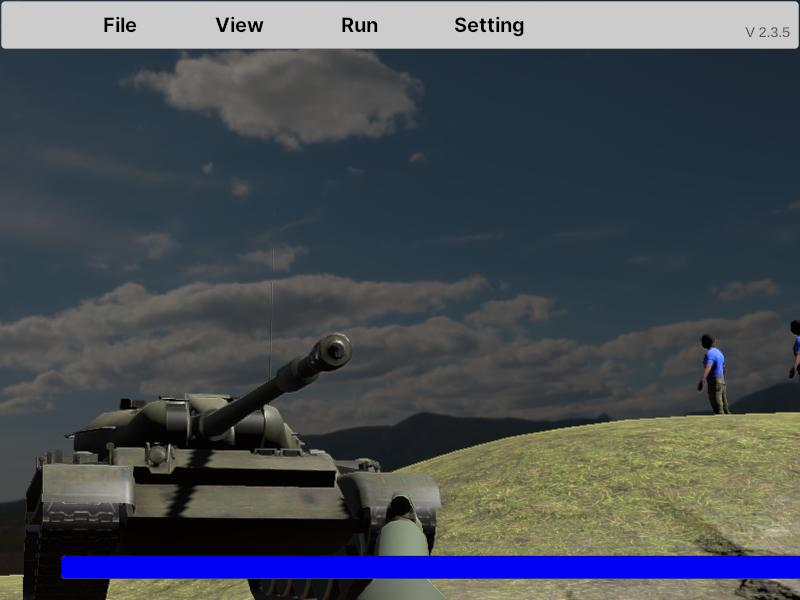Human: (697, 333, 739, 439), (790, 314, 800, 427)
Tank: (23, 327, 447, 597)
